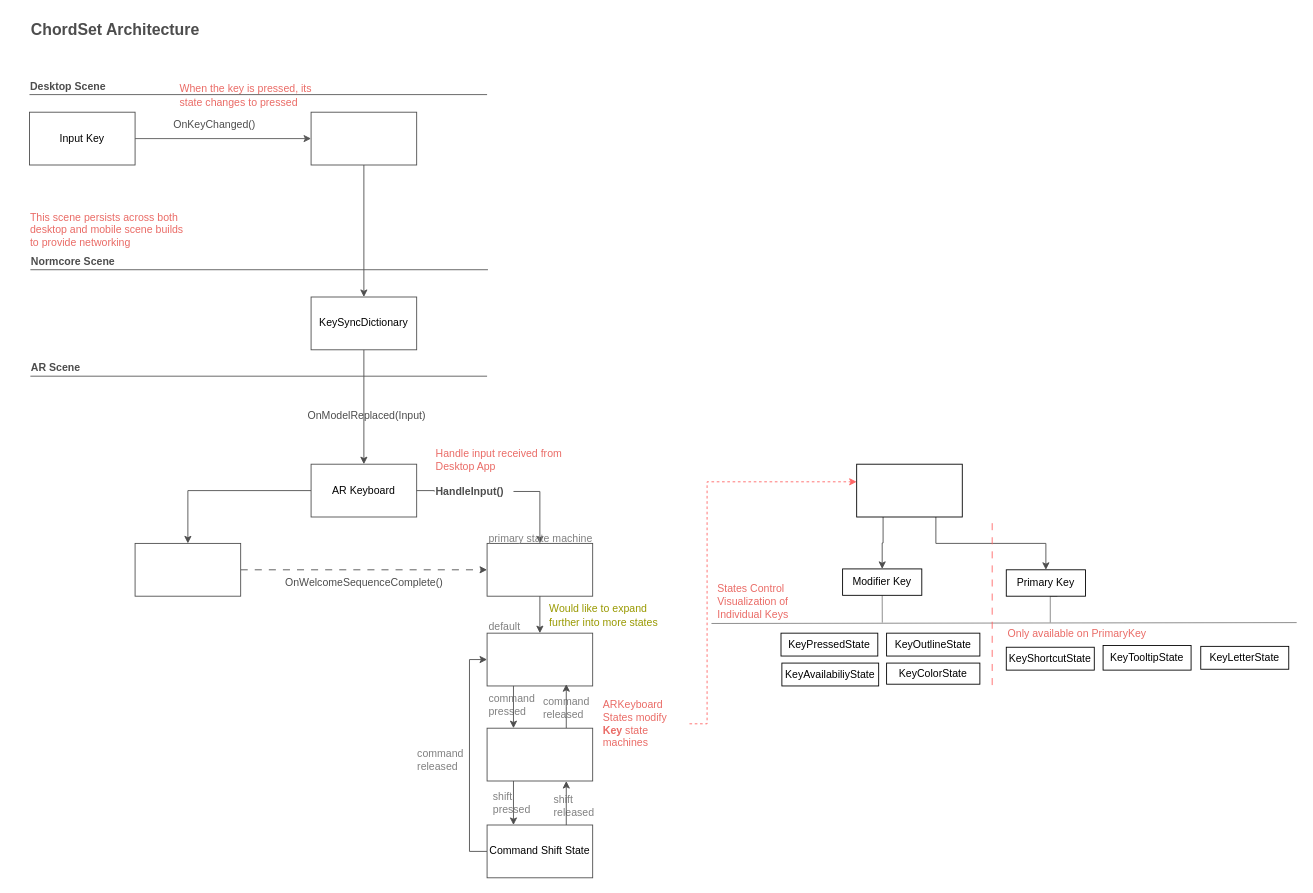
Image size: 1313x893. Some labels were removed from this diagram. The shapes that lost their labels are listed below. From the top down, each one's box as (x1, y1, x2, y2) in pixels, then its label:
(310, 111, 417, 165): InputManager
(856, 463, 962, 517): Key
(134, 543, 241, 596): Welcome Mode
(486, 543, 593, 596): ARKeyboardState Ambient Mode State Machine
(486, 632, 593, 686): Typing State
(486, 727, 593, 781): Command State
